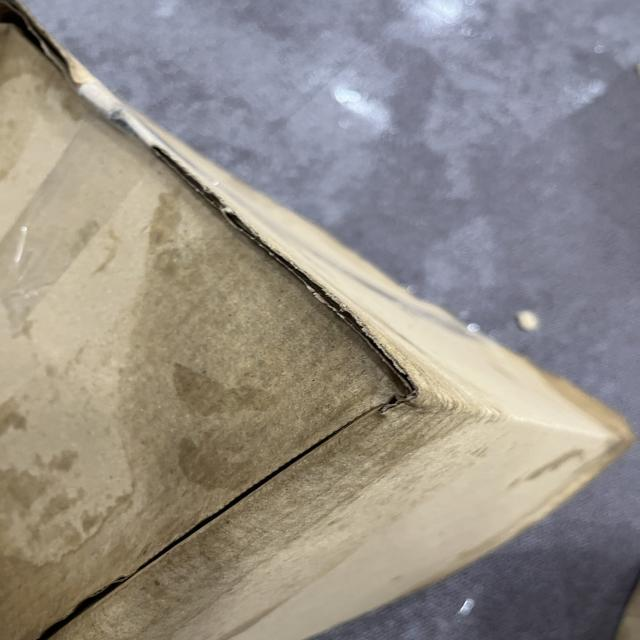wet: (126, 204, 472, 550)
